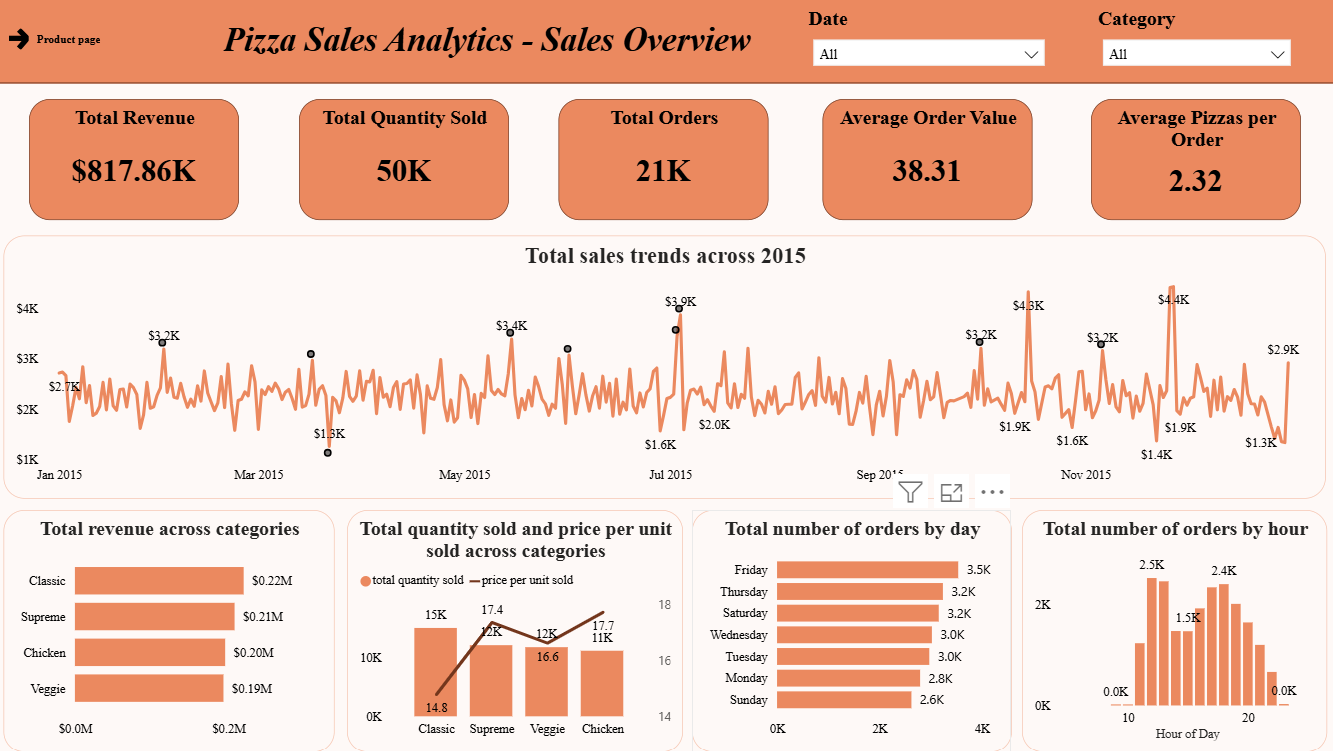

The dashboard page shown, as its layout file describes it:
{"tool":"powerbi","page":{"name":"Sales Overview","canvas":[1280,720],"ordinal":0},"visuals":[{"type":"shape","box":[0,0,1279.5,82.4],"z":0},{"type":"textbox","box":[214.4,17,524,65.3],"z":1000},{"type":"cardVisual","title":"Total Revenue","fields":{"Data":["Fact_Pizza_Table.total revenue"]},"box":[34.1,96.6,200.2,115],"z":2000},{"type":"cardVisual","title":"Total Quantity Sold","fields":{"Data":["Fact_Pizza_Table.total quantity sold"]},"box":[291.1,96.6,200.2,115],"z":3000},{"type":"cardVisual","title":"Total Orders","fields":{"Data":["Fact_Pizza_Table.total orders"]},"box":[538.2,96.6,200.2,115],"z":4000},{"type":"cardVisual","title":"Average Pizzas per Order","fields":{"Data":["Fact_Pizza_Table.average pizzas per order"]},"box":[1045.2,96.6,200.2,115],"z":5000},{"type":"cardVisual","title":"Average Order Value","fields":{"Data":["Fact_Pizza_Table.average order value"]},"box":[789.6,96.6,200.2,115],"z":6000},{"type":"lineChart","title":"Total sales trends across 2015","fields":{"Y":["Fact_Pizza_Table.total revenue"],"Category":["Dim_Date.Date.Variation.Date Hierarchy.Year","Dim_Date.Date.Variation.Date Hierarchy.Quarter","Dim_Date.Date.Variation.Date Hierarchy.Month","Dim_Date.Date.Variation.Date Hierarchy.Day"]},"box":[10.7,227.6,1259.6,250.9],"z":7000},{"type":"slicer","title":"Date","fields":{"Values":["Dim_Date.Month","Dim_Date.Date"]},"box":[771.1,9.9,240,61.1],"z":8000},{"type":"clusteredBarChart","title":"Total number of orders by day ","fields":{"Category":["Dim_Date.Week day"],"Y":["Fact_Pizza_Table.total orders"]},"box":[666.3,488.3,304.4,231.5],"z":9000},{"type":"columnChart","title":"Total number of orders by hour","fields":{"Category":["Fact_Pizza_Table.hours"],"Y":["Fact_Pizza_Table.total orders"]},"box":[979.5,488.3,290.8,231.5],"z":10000},{"type":"lineClusteredColumnComboChart","title":"Total quantity sold and price per unit sold across categories","fields":{"Category":["Dim_Category.category"],"Y":["Fact_Pizza_Table.total quantity sold"],"Y2":["Fact_Pizza_Table.revenue per unit sold"]},"box":[337.5,488.3,320,231.5],"z":11000},{"type":"slicer","title":"Category","fields":{"Values":["Dim_Category.category"]},"box":[1046.6,9.9,198.8,61.1],"z":12000},{"type":"clusteredBarChart","title":"Total revenue across categories","fields":{"Category":["Dim_Category.category"],"Y":["Fact_Pizza_Table.total revenue"]},"box":[10.7,488.3,315.1,231.5],"z":13000},{"type":"actionButton","box":[10.7,20.4,96.3,39.9],"z":14000}]}

Visuals, with their boxes in screenshot pixels (x1, y1, x2, y2), scaled from the page's 1280x720 canvas onto the 1333x751 screenshot:
shape: bbox=(0, 0, 1332, 86)
textbox: bbox=(223, 18, 769, 86)
"Total Revenue" cardVisual: bbox=(36, 101, 244, 221)
"Total Quantity Sold" cardVisual: bbox=(303, 101, 512, 221)
"Total Orders" cardVisual: bbox=(560, 101, 769, 221)
"Average Pizzas per Order" cardVisual: bbox=(1088, 101, 1297, 221)
"Average Order Value" cardVisual: bbox=(822, 101, 1031, 221)
"Total sales trends across 2015" lineChart: bbox=(11, 237, 1323, 499)
"Date" slicer: bbox=(803, 10, 1053, 74)
"Total number of orders by day " clusteredBarChart: bbox=(694, 509, 1011, 750)
"Total number of orders by hour" columnChart: bbox=(1020, 509, 1323, 750)
"Total quantity sold and price per unit sold across categories" lineClusteredColumnComboChart: bbox=(351, 509, 685, 750)
"Category" slicer: bbox=(1090, 10, 1297, 74)
"Total revenue across categories" clusteredBarChart: bbox=(11, 509, 339, 750)
actionButton: bbox=(11, 21, 111, 63)
